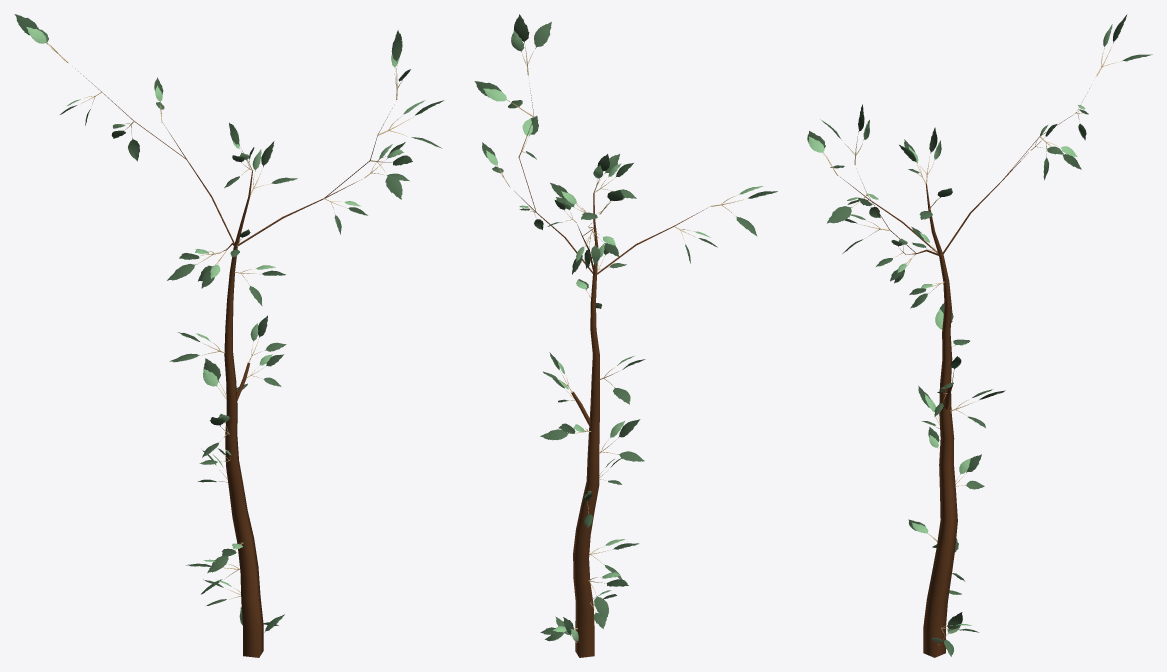
File: Tree23.fbx
The picture shows the model from 3 angles, left to right: view 1: azimuth 30°, elevation 25°; view 2: azimuth 150°, elevation 25°; view 3: azimuth 270°, elevation 25°; orthographic projection. The views are drawn at different scales.
Visible parts, largest first — view 1: Árbol.002; view 2: Árbol.002, Hojas|tree|Dupli|21, Hojas|tree|Dupli|8, Hojas|tree|Dupli|2, Hojas|tree|Dupli|26; view 3: Árbol.002.
Boxes of the visible parts, <box> form: Árbol.002: <box>75,68,392,657</box>; Árbol.002: <box>509,83,706,657</box>; Hojas|tree|Dupli|21: <box>511,14,551,75</box>; Hojas|tree|Dupli|8: <box>599,419,644,461</box>; Hojas|tree|Dupli|2: <box>474,81,534,117</box>; Hojas|tree|Dupli|26: <box>588,572,628,620</box>; Árbol.002: <box>840,88,1089,657</box>.
Size of the model in its own units: 376 by 762 by 398.
